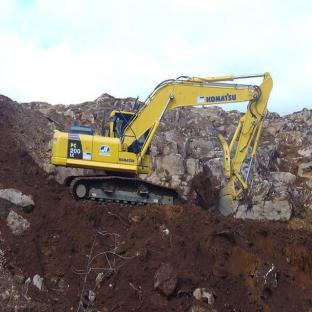ExcavationMachinery: (21, 79, 281, 233)
